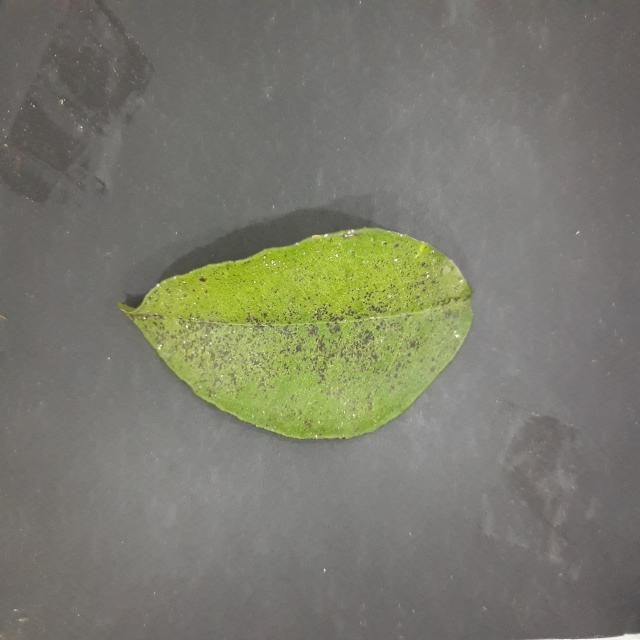greasy_spot: (120, 228, 473, 441)
